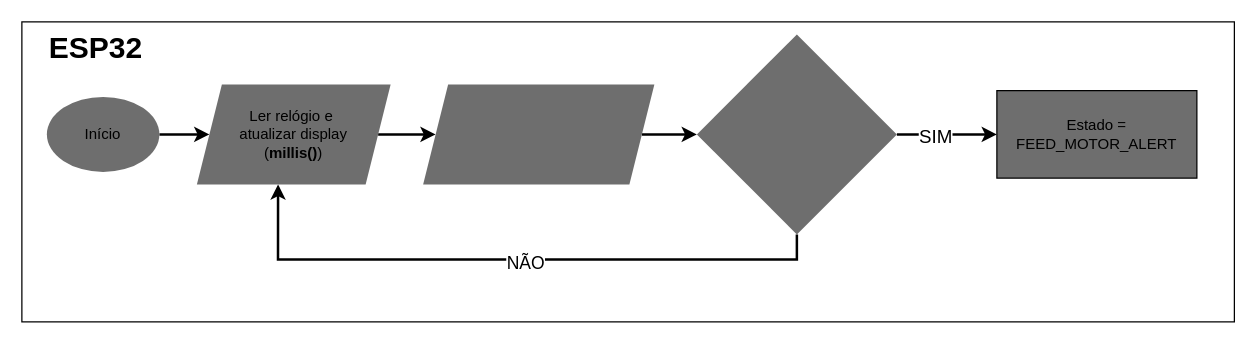
This 1256x344 diagram has some shape labels left out. The shapes that lost their labels are listed below. From the top down, each one's centre as x and y in pixels, then its label:
At point (538, 134): "Receber requisições do App Flutter ( server.handleClient() )".
At point (796, 134): "handleFood() OU Horário atual == horário agendado".
